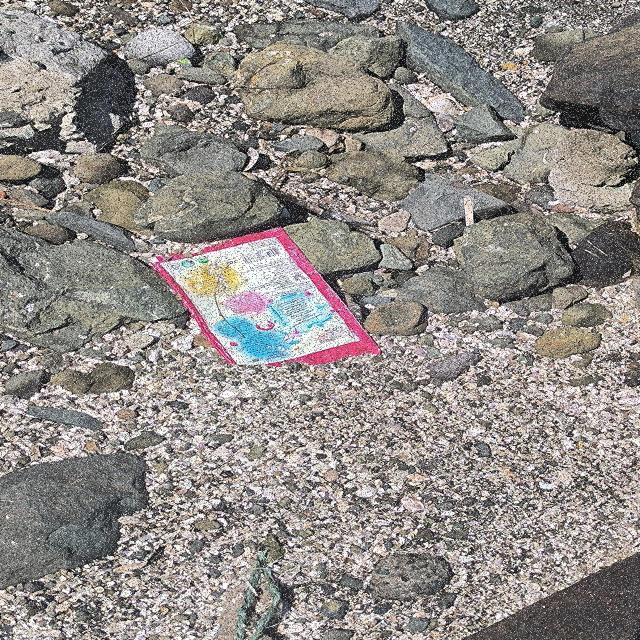plastic_waste: (147, 229, 379, 368)
